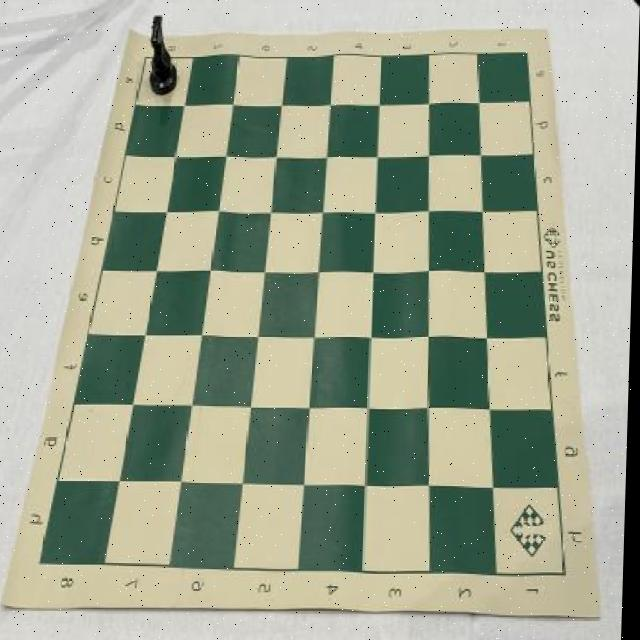black-king: (147, 15, 180, 97)
